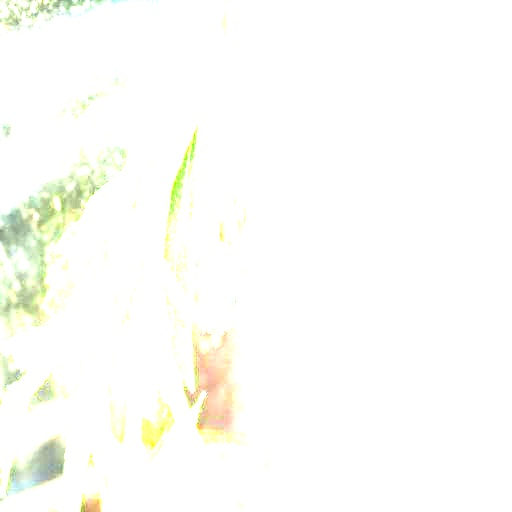Gray Mold: (199, 144, 337, 386)
